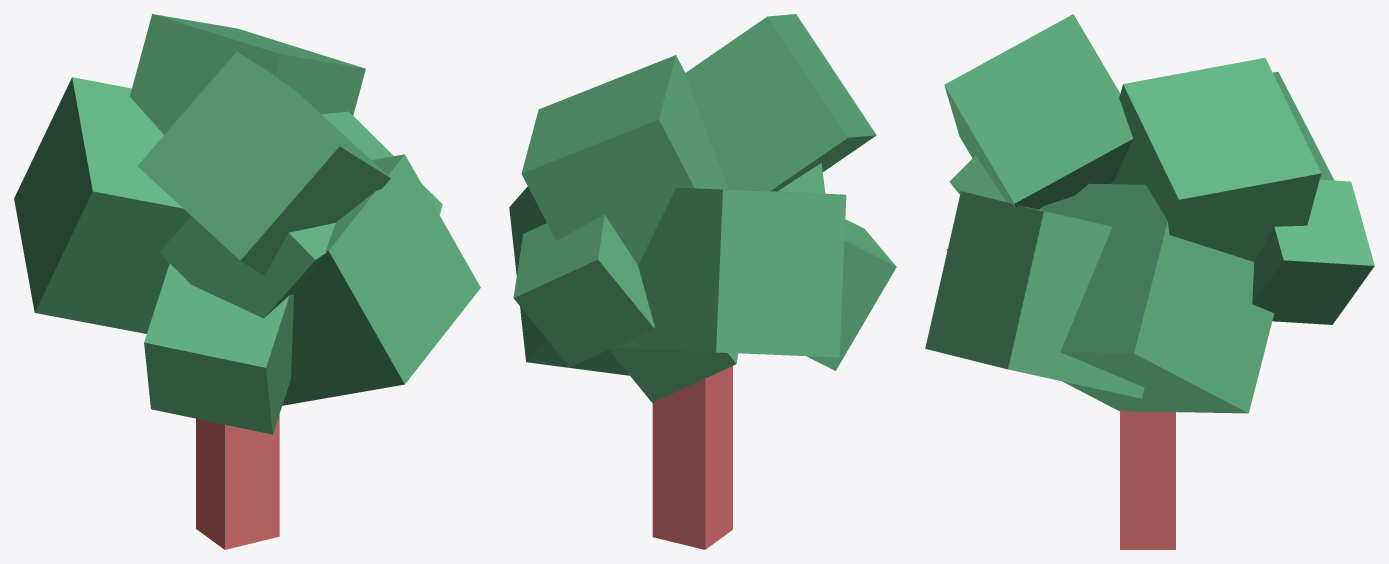
File: Bush.fbx
3 views of the same model, side by side, from view 1: azimuth 30°, elevation 25°; view 2: azimuth 150°, elevation 25°; view 3: azimuth 270°, elevation 25° (orthographic). The views are drawn at different scales.
Visible parts, largest first — view 1: Cube, Cube__3_, Cube__5_, Cube__6_, Cube__1_, Stam, Cube__2_, Cube__4_; view 2: Cube, Cube__1_, Cube__5_, Cube__7_, Stam, Cube__6_, Cube__8_, Cube__4_, Cube__2_; view 3: Cube__4_, Cube__1_, Cube__3_, Cube__5_, Cube__7_, Stam, Cube__2_, Cube.
Boxes of the visible parts, left/top/right/bottom form: Cube: left=14, top=77, right=190, bottom=333; Cube__3_: left=282, top=154, right=480, bottom=405; Cube__5_: left=137, top=52, right=390, bottom=275; Cube__6_: left=144, top=263, right=293, bottom=434; Cube__1_: left=130, top=14, right=365, bottom=134; Stam: left=196, top=414, right=279, bottom=549; Cube__2_: left=159, top=216, right=335, bottom=318; Cube__4_: left=321, top=111, right=442, bottom=214; Cube: left=613, top=187, right=846, bottom=357; Cube__1_: left=521, top=55, right=728, bottom=264; Cube__5_: left=684, top=14, right=876, bottom=191; Cube__7_: left=513, top=214, right=654, bottom=366; Stam: left=652, top=366, right=732, bottom=549; Cube__6_: left=807, top=219, right=896, bottom=370; Cube__8_: left=609, top=348, right=738, bottom=402; Cube__4_: left=509, top=186, right=629, bottom=375; Cube__2_: left=777, top=163, right=825, bottom=193; Cube__4_: left=1060, top=183, right=1274, bottom=413; Cube__1_: left=1112, top=58, right=1321, bottom=261; Cube__3_: left=925, top=191, right=1144, bottom=398; Cube__5_: left=944, top=14, right=1133, bottom=209; Cube__7_: left=1252, top=179, right=1374, bottom=324; Stam: left=1120, top=409, right=1175, bottom=549; Cube__2_: left=949, top=155, right=1112, bottom=214; Cube: left=1273, top=71, right=1334, bottom=180.
Bounding box in the file's own units: 48.6 × 64.13 × 51.81.
